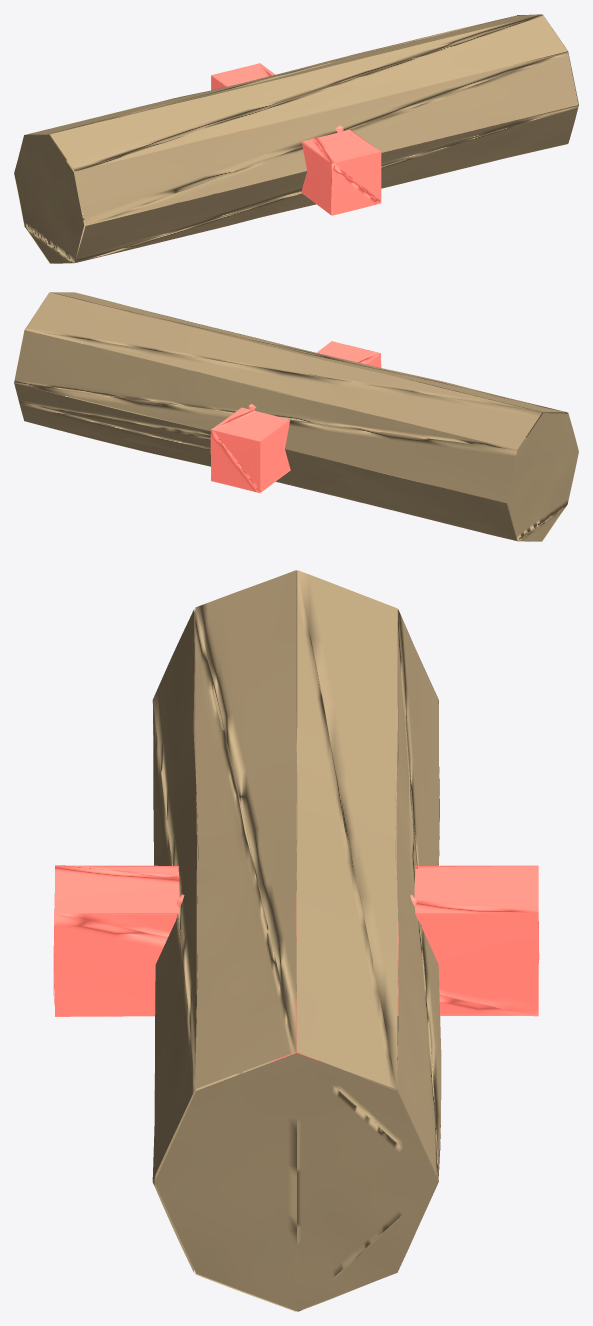
File: scroll.glb
3 renders of one model, top to bottom at view 1: azimuth 30°, elevation 25°; view 2: azimuth 150°, elevation 25°; view 3: azimuth 270°, elevation 25°, orthographic. The views are drawn at different scales.
Visible parts, largest first — view 1: Scroll; view 2: Scroll; view 3: Scroll.
Part boxes in pixels (<box>): Scroll: <box>14,14,578,263</box>; Scroll: <box>14,292,578,541</box>; Scroll: <box>53,570,539,1311</box>.
Bounding box in the file's own units: 0.8038 × 0.2031 × 0.3414.
